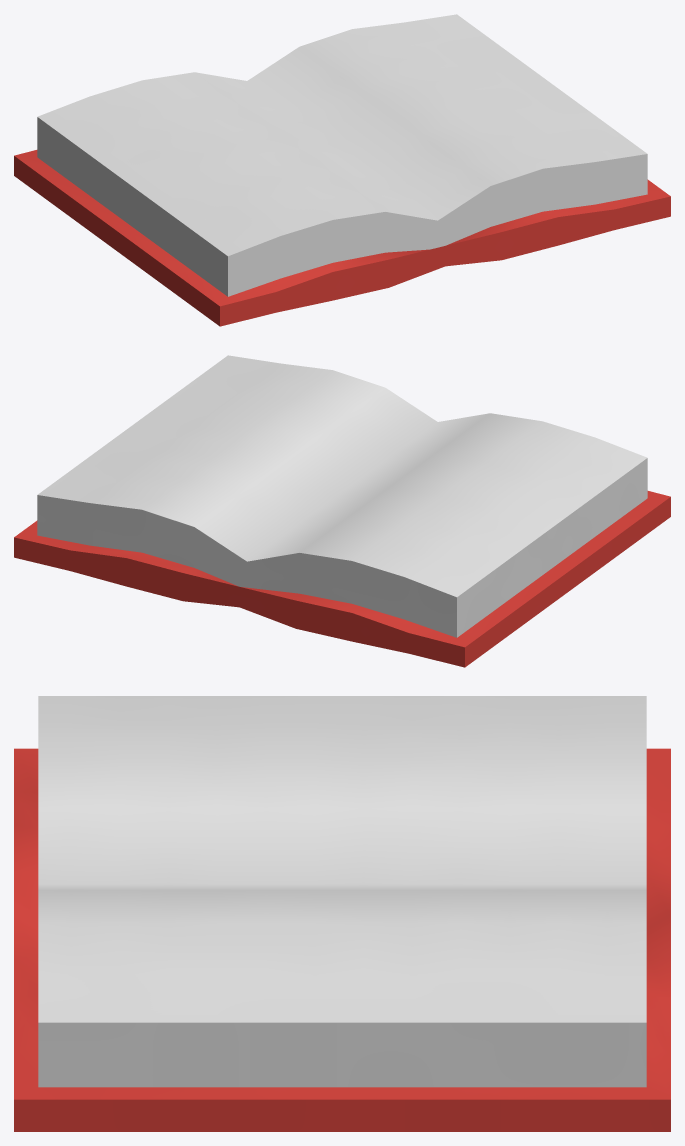
Rendered from Book_02_03.fbx.
3 views of the same model, one above another, from view 1: azimuth 30°, elevation 25°; view 2: azimuth 150°, elevation 25°; view 3: azimuth 270°, elevation 25° (orthographic). The views are drawn at different scales.
Parts seen in each view (by area): view 1: Book_02_03; view 2: Book_02_03; view 3: Book_02_03.
Part boxes in pixels (x1,y1,x2,y2): Book_02_03: (14,14,670,326); Book_02_03: (14,355,670,667); Book_02_03: (14,696,670,1131).
Bounding box in the file's own units: 0.4877 × 0.0766 × 0.3859.
